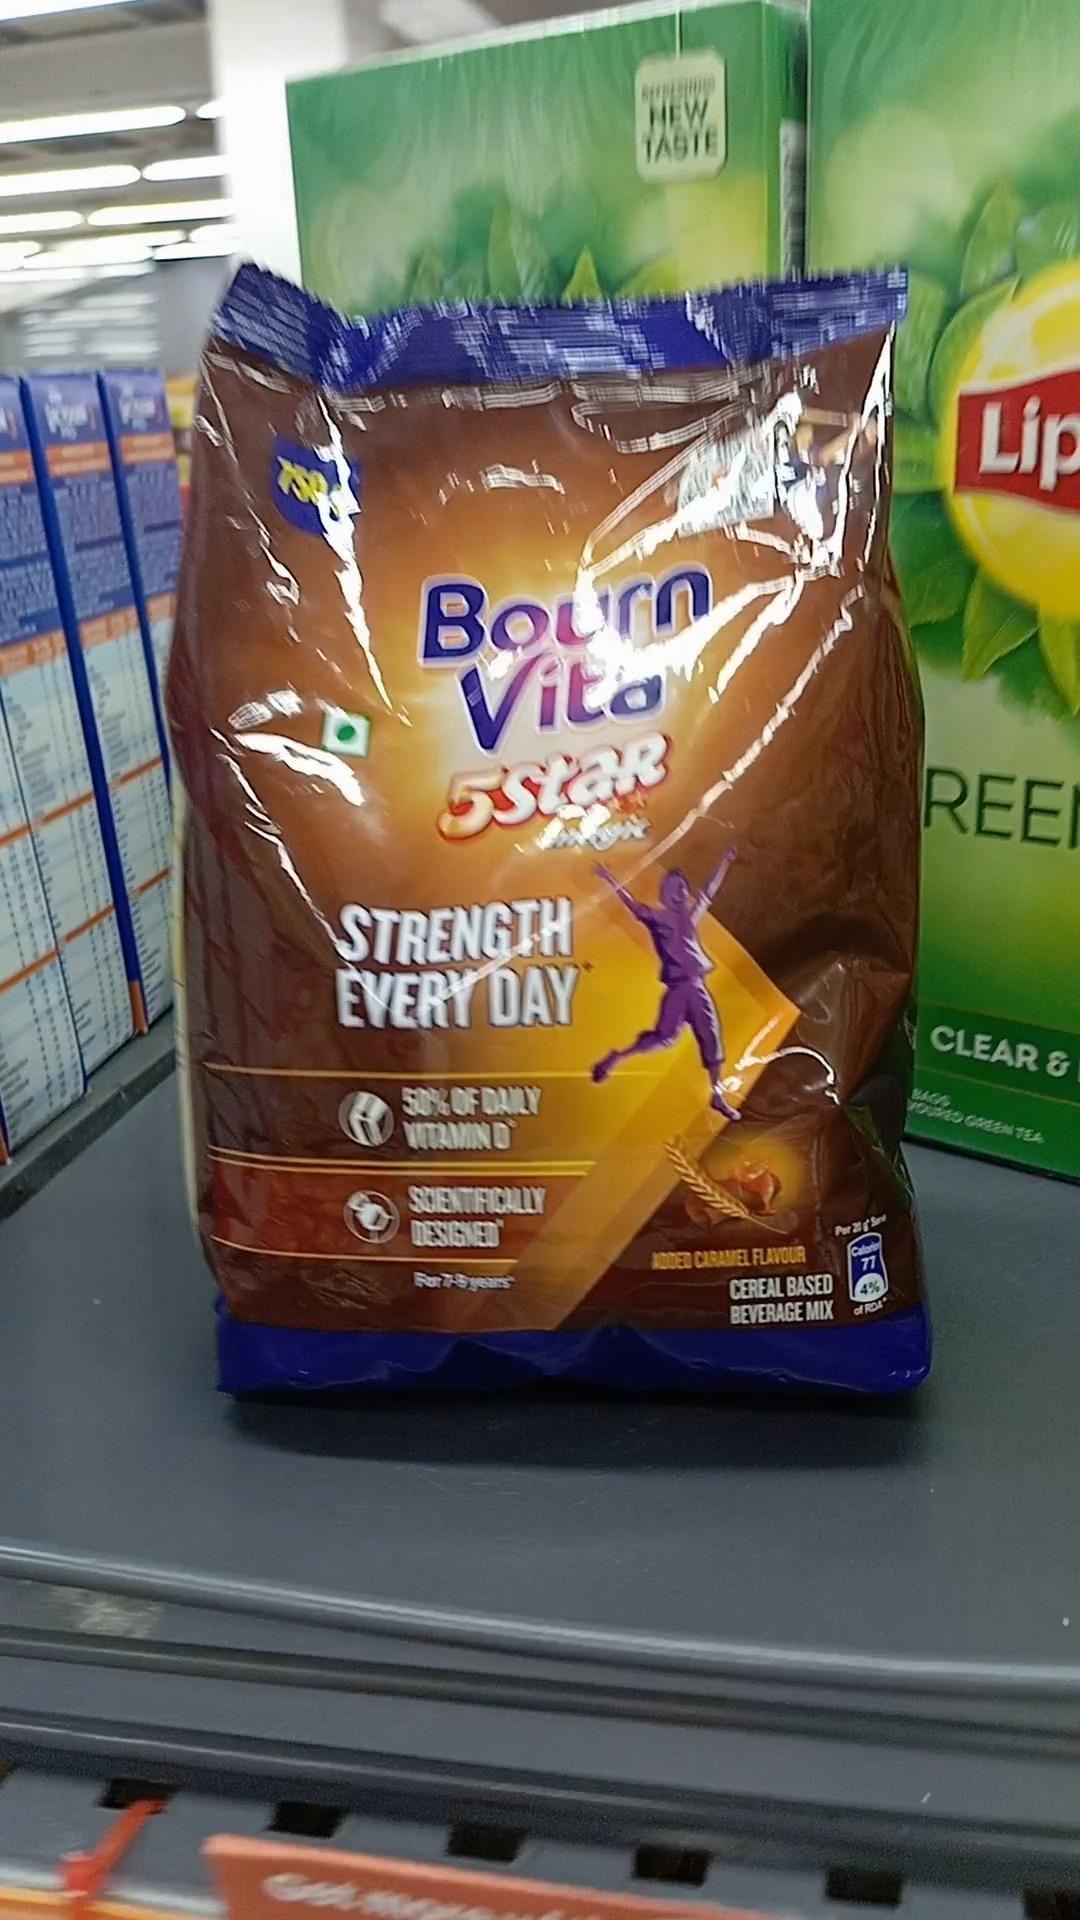BOURN_VITA_FIVE_STAR_MAGIC_750_G_POUCH: (182, 236, 930, 1406)
